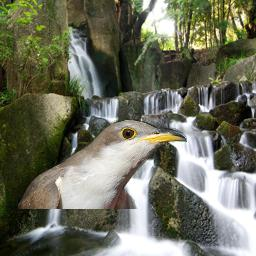Cuckoo: (18, 119, 187, 209)
